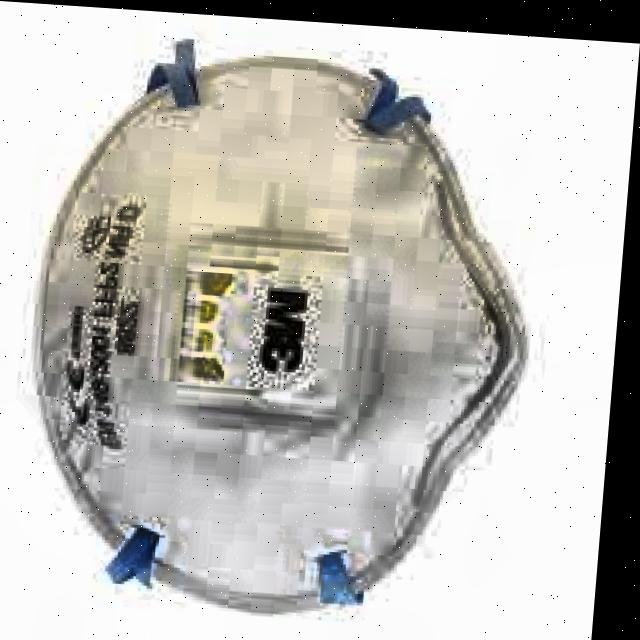trash: (12, 33, 554, 635)
